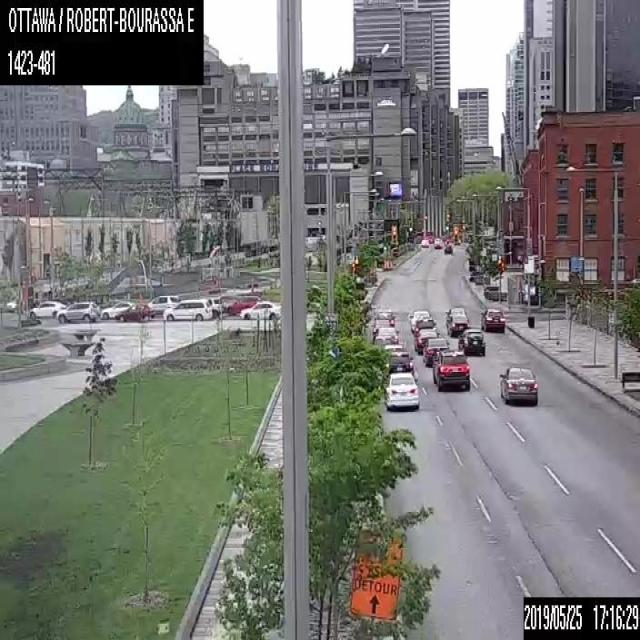construction: (350, 542, 403, 618)
vehicle: (498, 365, 537, 404), (432, 350, 469, 390), (384, 371, 418, 408), (163, 298, 211, 319), (56, 300, 100, 322), (114, 302, 154, 322), (422, 337, 449, 365), (457, 328, 484, 355), (143, 294, 180, 313), (240, 300, 279, 318), (28, 300, 68, 317), (226, 295, 259, 314), (100, 300, 133, 319), (413, 328, 439, 352), (480, 307, 505, 331), (446, 314, 469, 336), (408, 310, 432, 331), (370, 318, 390, 340), (202, 296, 224, 316), (373, 326, 398, 342), (388, 356, 412, 372), (444, 307, 466, 315), (443, 243, 452, 253), (421, 238, 428, 246), (434, 240, 441, 247)
